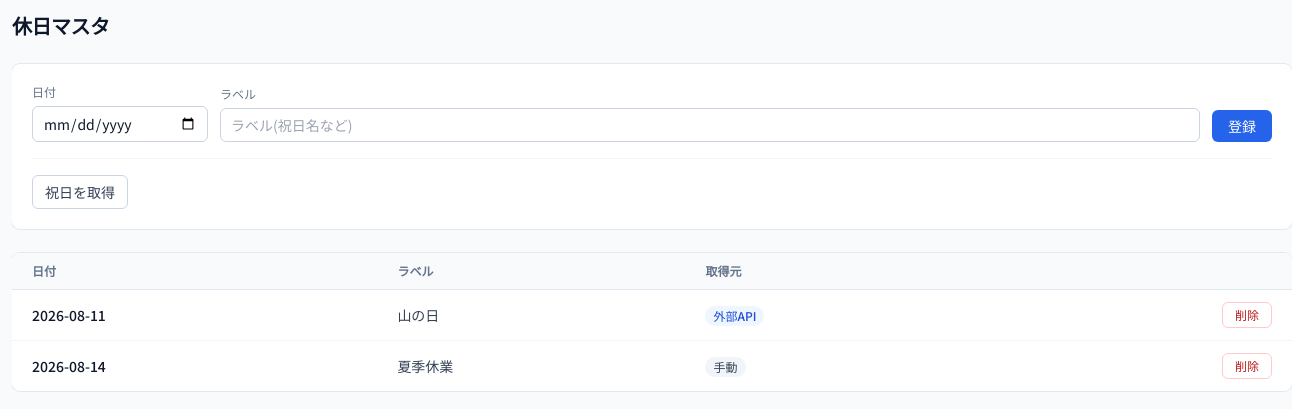
Scenario: 祝日マスタ (task 7.2) › 外部APIの祝日を同期し、結果の要約を表示 (Req 9.3)
What coordinates should you click on to do the following:
click the button "祝日を取得"
I would click on:
 (80, 192)
Its box is [32,175,128,209].
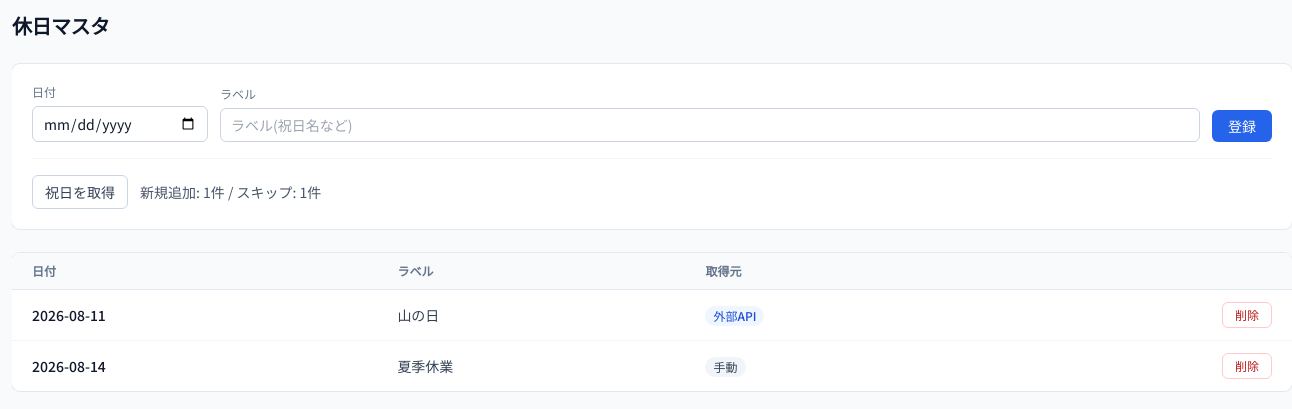
Now the text "新規追加: 1件 / スキップ: 1件" is shown, box [140,182,321,202]
